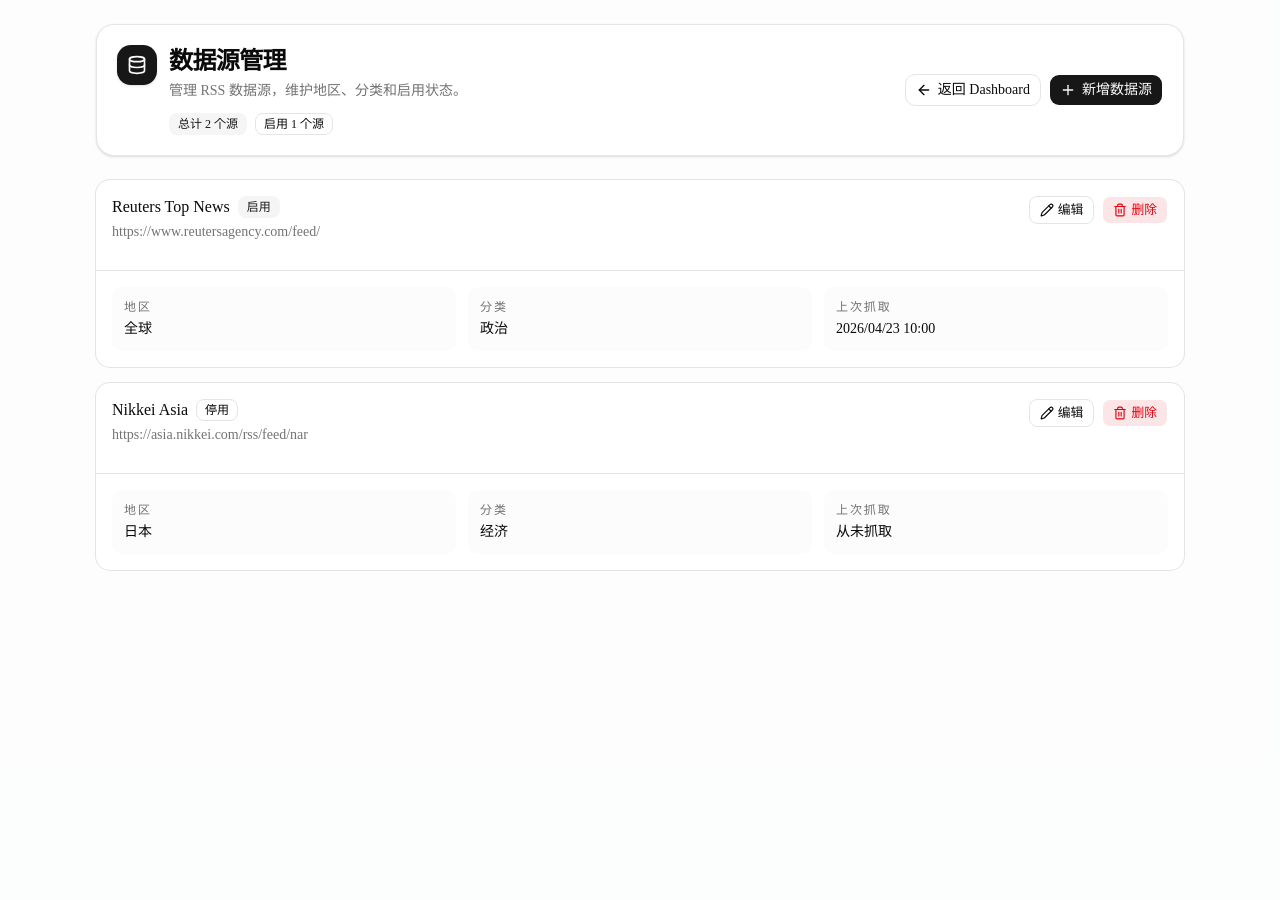
SourcesPage › 添加数据源时校验必填字段并显示错误
Expected: the text "Reuters Top News" is shown, 112,196 -> 230,218
Click the button "新增数据源" at (1106,90), box 1049,74 -> 1163,106
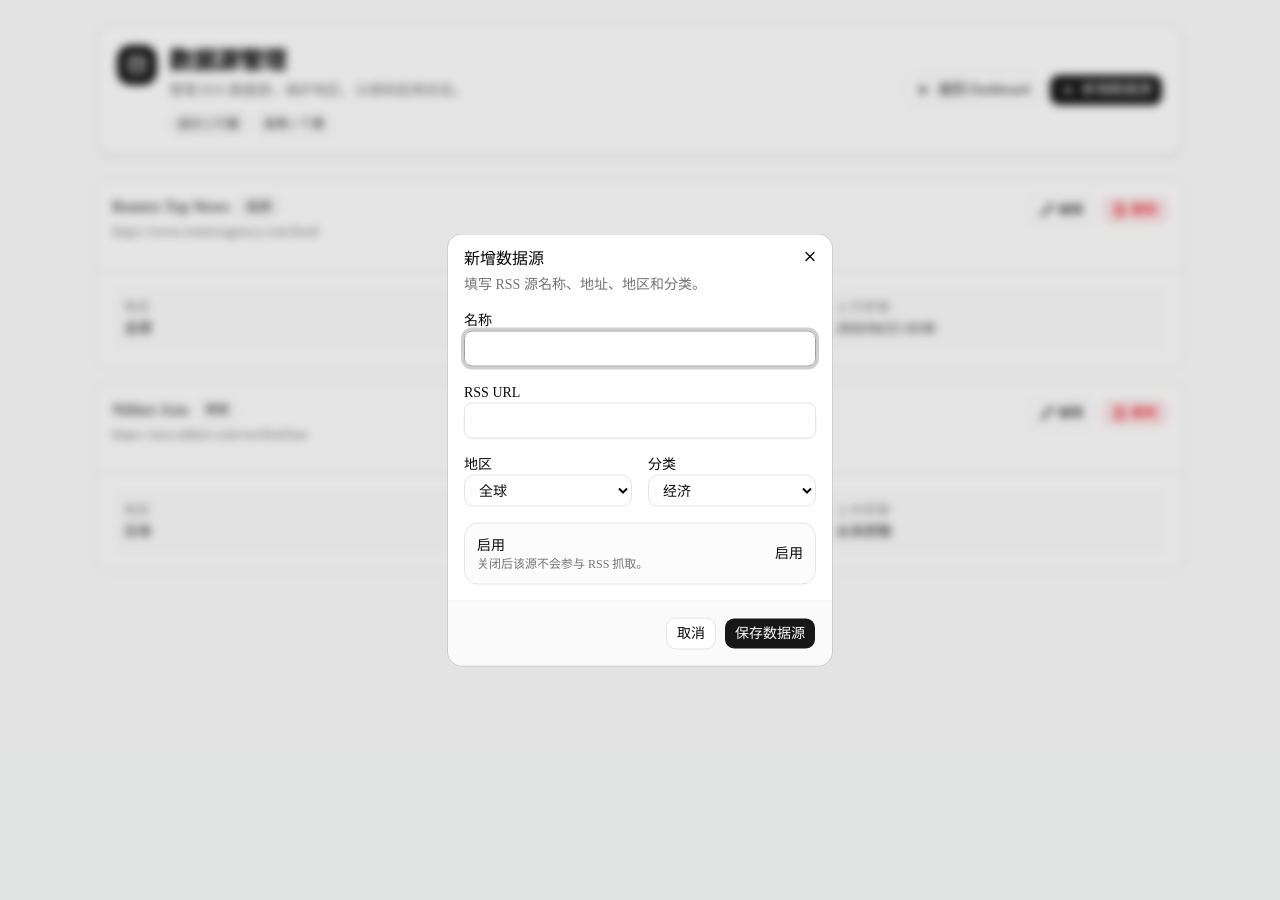
Click the button "保存数据源" at (770,634), box 724,618 -> 816,650
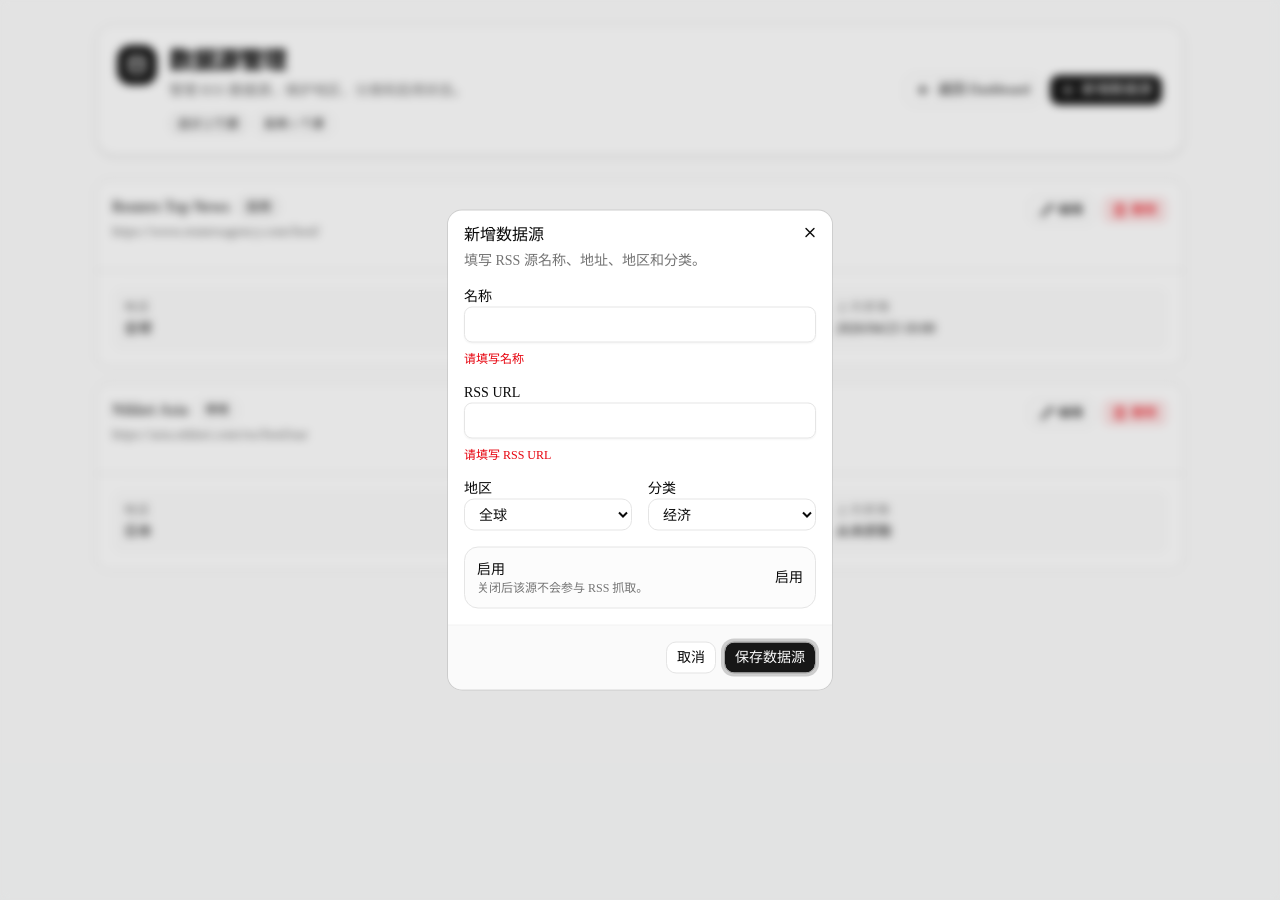
Expected: the text "请填写名称" is shown, 464,352 -> 524,366
Expected: the text "请填写 RSS URL" is shown, 464,448 -> 551,462
